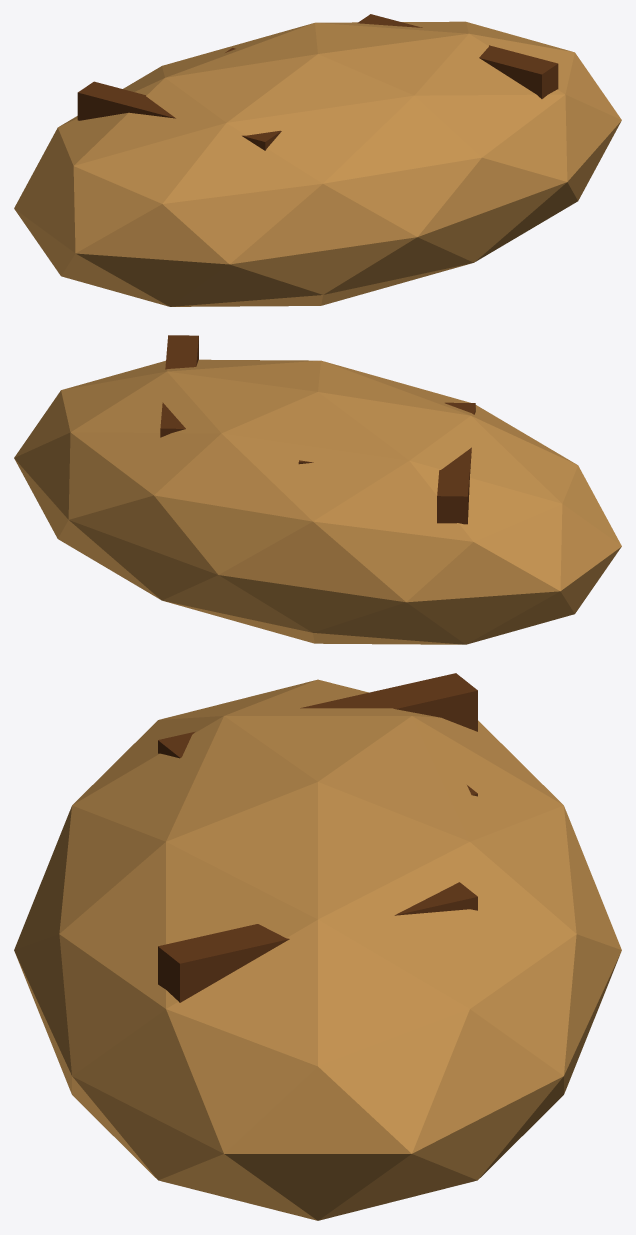
Rendered from Bread.glb.
The picture shows the model from 3 angles, top to bottom: view 1: azimuth 30°, elevation 25°; view 2: azimuth 150°, elevation 25°; view 3: azimuth 270°, elevation 25°; orthographic projection. The views are drawn at different scales.
Visible parts, largest first — view 1: _I_Bread; view 2: _I_Bread; view 3: _I_Bread.
Part boxes in pixels (x1,y1,x2,y2): _I_Bread: (14,14,621,306); _I_Bread: (14,335,621,644); _I_Bread: (14,673,621,1220).
Bounding box in the file's own units: 0.5136 × 0.198 × 0.324.
